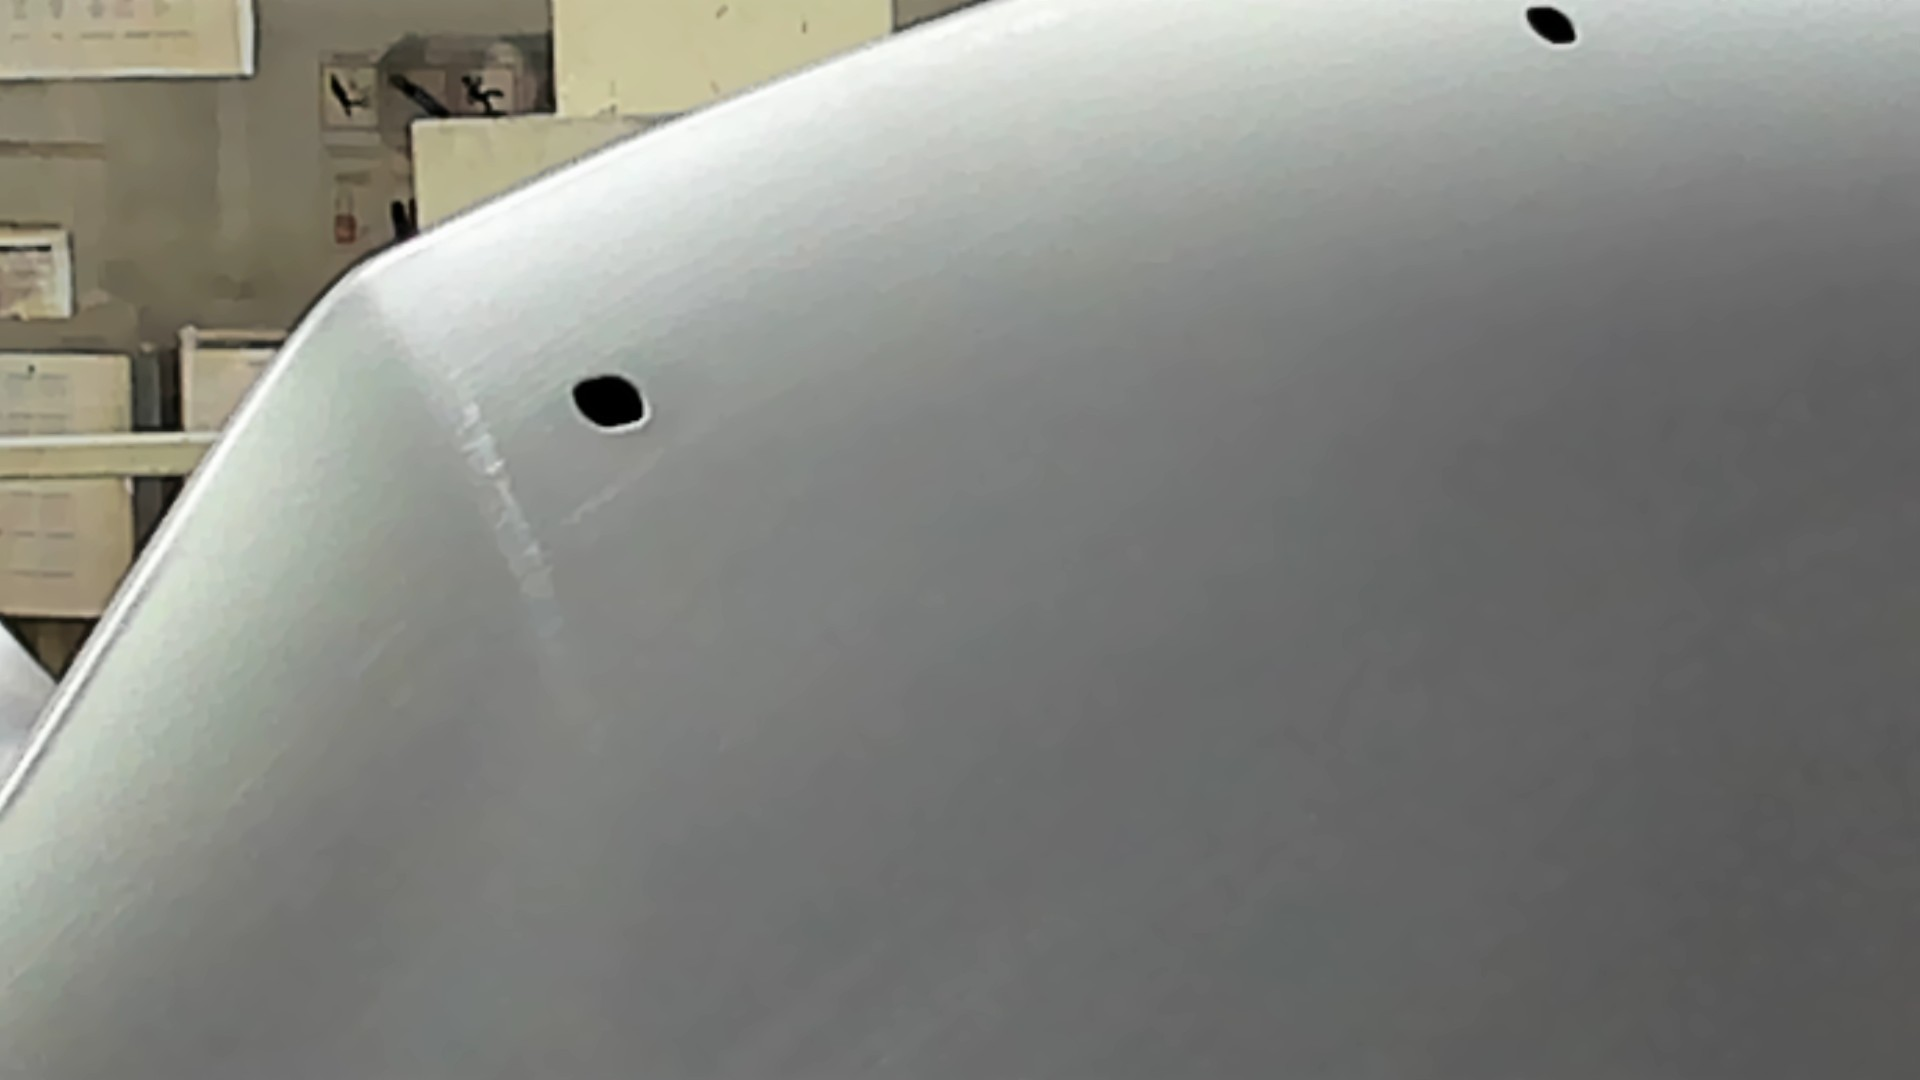amorfo: (564, 371, 655, 435), (1520, 1, 1588, 58)
